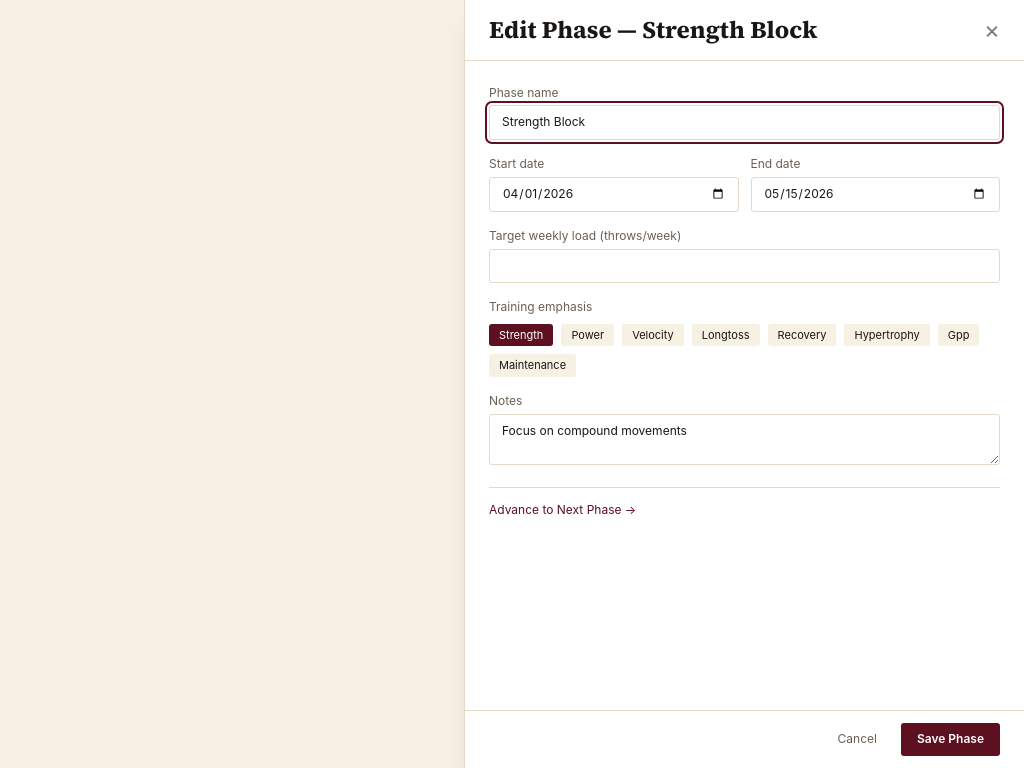
Test: <PhaseEditorSlideOver> › shows confirmation when Advance is clicked
The width and height of the screenshot is (1024, 768).
Click the button "Advance to Next Phase →" at (563, 511), box [489, 502, 636, 519]
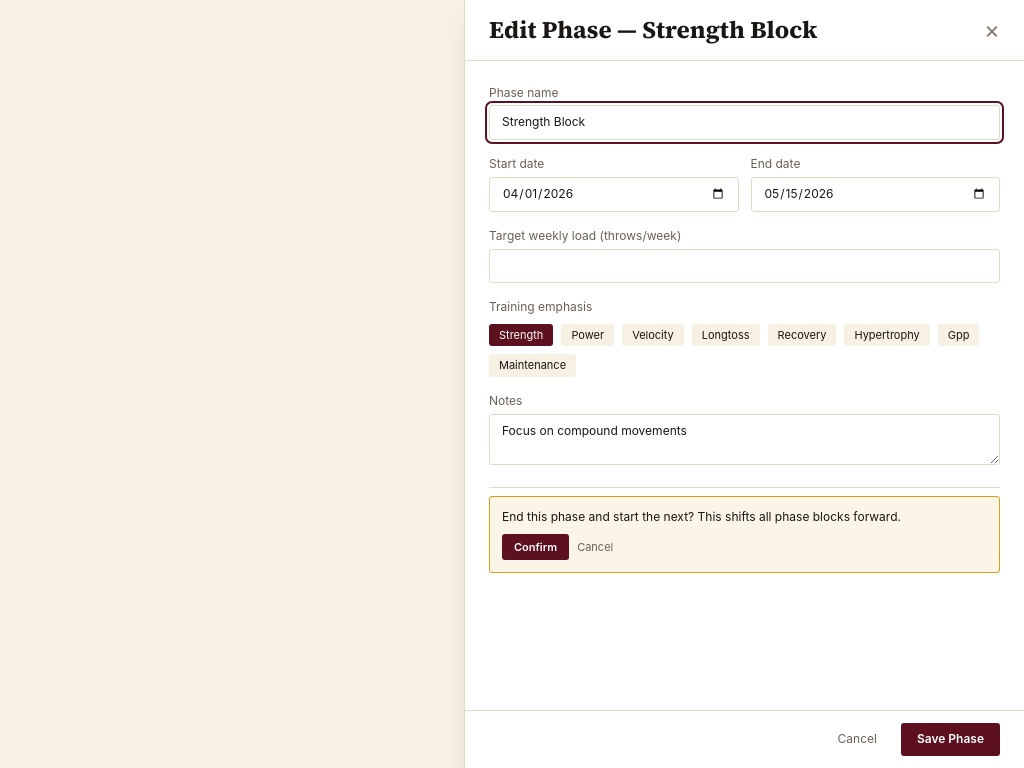
Now the text "End this phase and start the next" is shown, box [502, 509, 901, 524]
